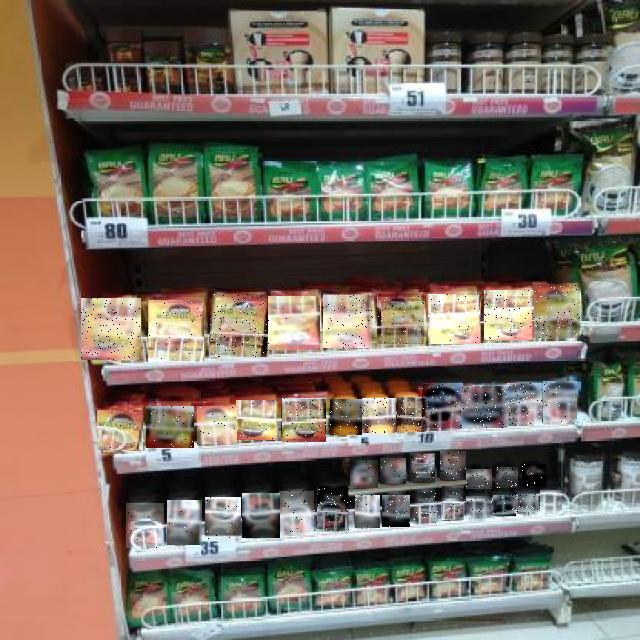Coffee: (81, 298, 141, 360), (210, 294, 268, 357), (148, 300, 204, 362), (269, 296, 321, 350), (324, 295, 374, 348), (428, 294, 480, 344), (484, 291, 534, 341), (534, 284, 580, 338), (379, 294, 425, 344), (146, 407, 194, 449), (283, 398, 327, 442), (462, 386, 508, 428), (97, 410, 143, 450), (422, 384, 461, 428), (242, 493, 280, 538), (127, 503, 165, 548), (168, 500, 204, 545), (236, 400, 276, 440), (280, 491, 316, 535), (318, 486, 352, 532), (197, 407, 237, 445), (205, 498, 241, 540), (507, 384, 542, 426), (543, 382, 577, 424), (362, 398, 396, 433), (330, 399, 362, 435), (397, 397, 425, 432), (382, 495, 410, 527), (414, 491, 440, 524), (355, 495, 380, 528), (350, 460, 378, 488), (440, 451, 466, 480), (442, 486, 464, 520), (410, 453, 435, 482), (380, 458, 406, 484), (466, 497, 492, 519), (522, 464, 546, 487), (466, 469, 492, 489), (540, 490, 562, 513), (493, 495, 516, 516), (496, 467, 518, 488), (517, 494, 539, 512)
